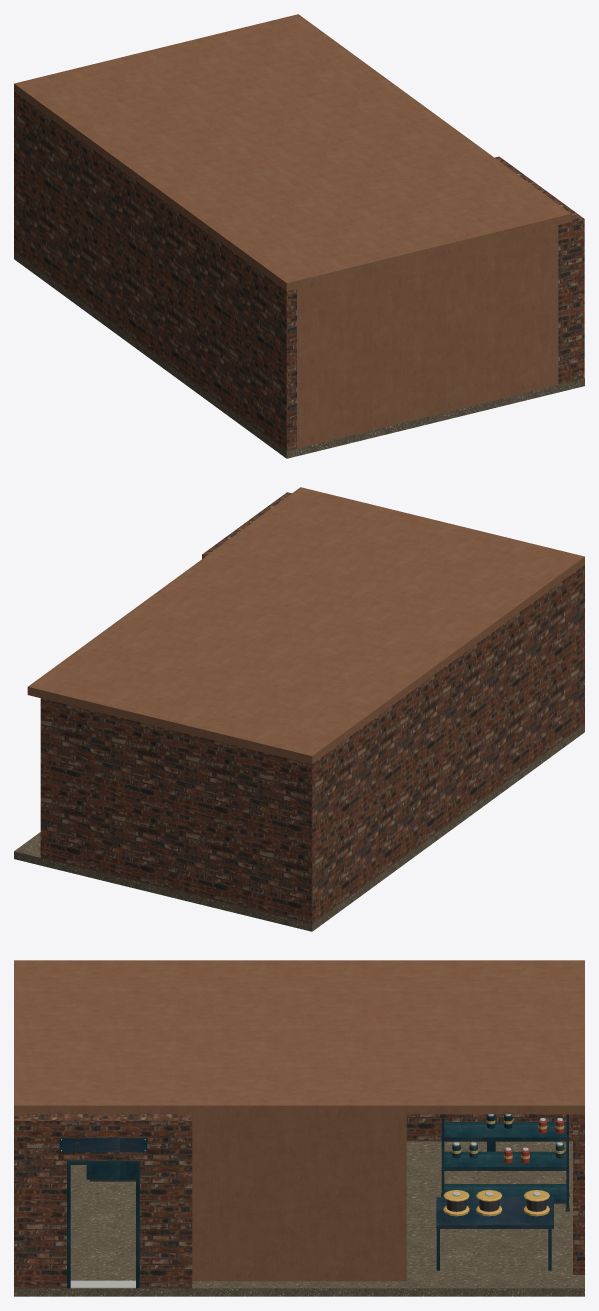
File: workshop.gltf
3 views of the same model, one above another, from view 1: azimuth 30°, elevation 25°; view 2: azimuth 150°, elevation 25°; view 3: azimuth 270°, elevation 25° (orthographic). The views are drawn at different scales.
Parts seen in each view (by area): view 1: workshop; view 2: workshop; view 3: workshop.
Part boxes in pixels (left/top/right/bottom): workshop: left=14, top=14, right=584, bottom=458; workshop: left=14, top=487, right=584, bottom=931; workshop: left=14, top=960, right=584, bottom=1296.
Bounding box in the file's own units: 6.08 × 3.41 × 9.6.
10 materials, 5 textured.
